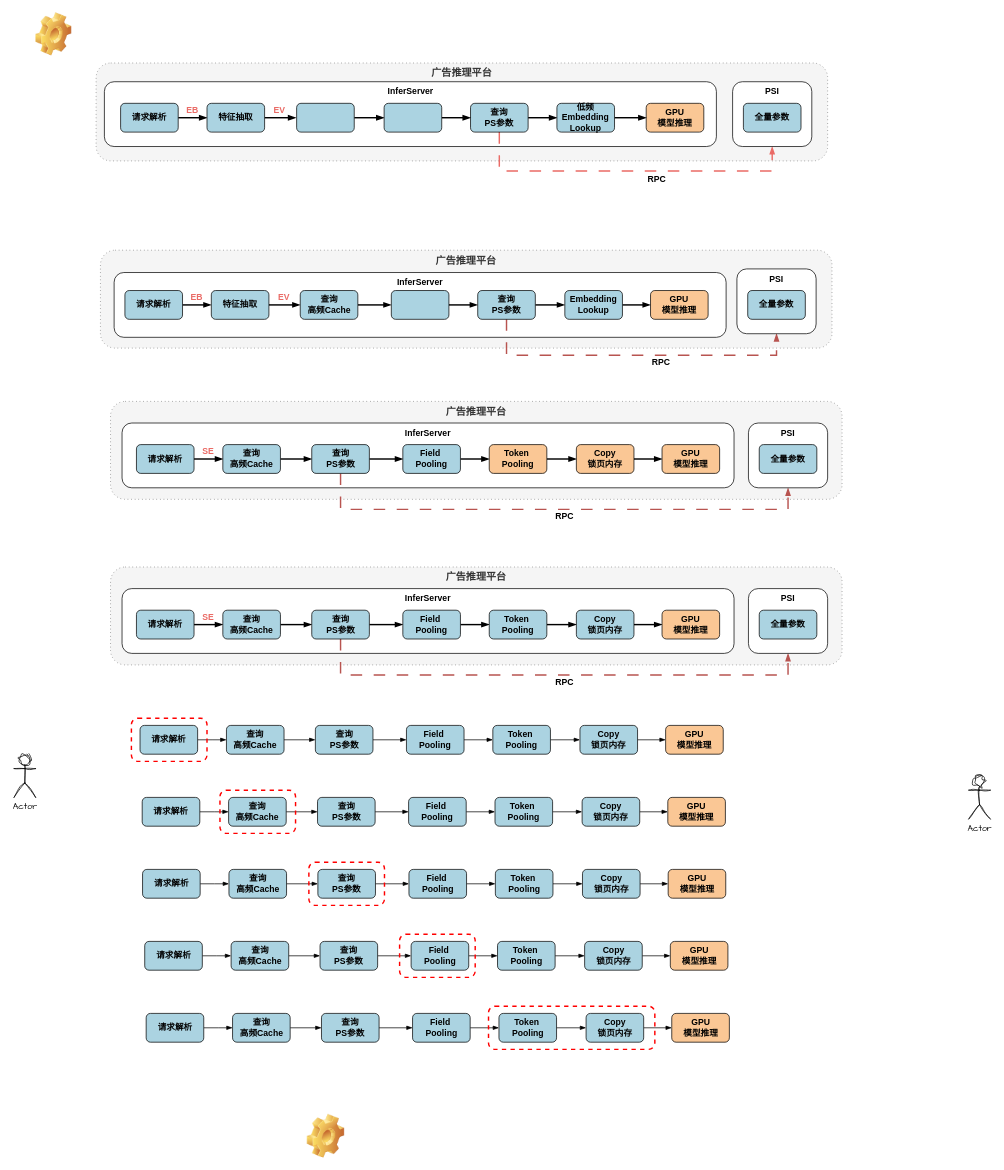
The diagram is 1004 pixels wide and 1170 high, and some of its shapes have lost their labels. The box of each missing label's shape, as (x1, y1, x2, y2) in pixels:
BF过滤: (391, 290, 449, 319)
记录MIss Key位置信息: (383, 103, 442, 132)
高频 Embedding Lookup: (296, 103, 354, 132)
